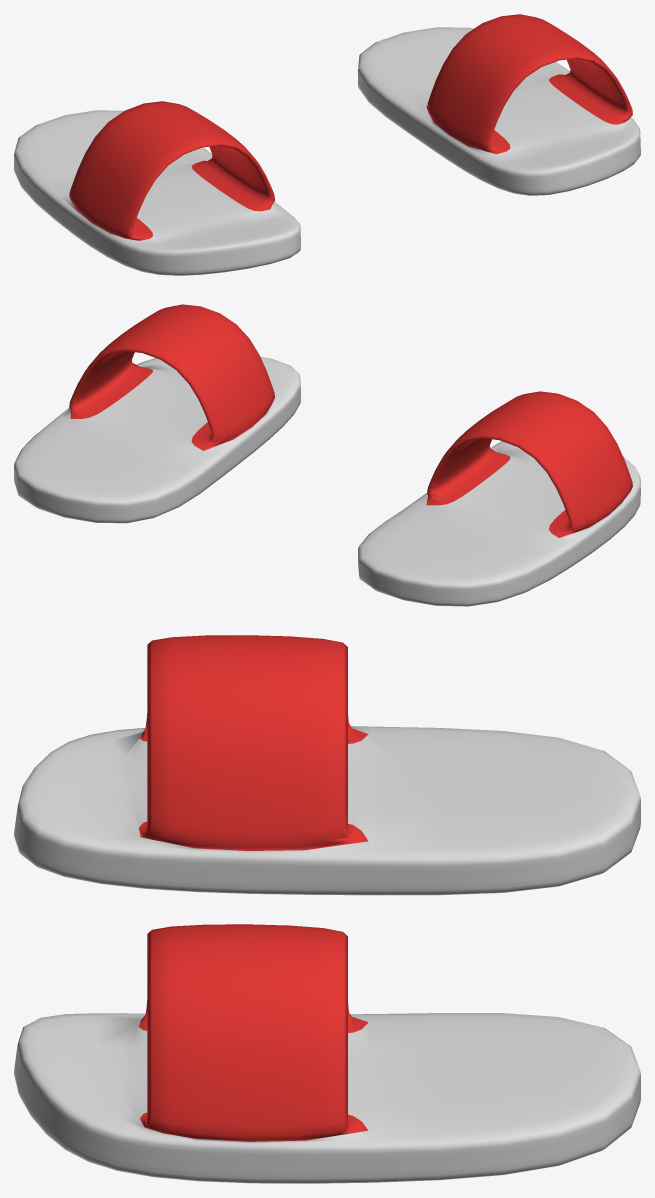
3 renders of one model, top to bottom at view 1: azimuth 30°, elevation 25°; view 2: azimuth 150°, elevation 25°; view 3: azimuth 270°, elevation 25°, orthographic. The views are drawn at different scales.
Visible parts, largest first — view 1: slippers; view 2: slippers; view 3: slippers.
Part boxes in pixels (bbox=[...]): slippers: bbox=[14, 14, 640, 275]; slippers: bbox=[14, 304, 640, 606]; slippers: bbox=[14, 635, 640, 1183].
Bounding box in the file's own units: 0.7536 × 0.1554 × 0.4722.
